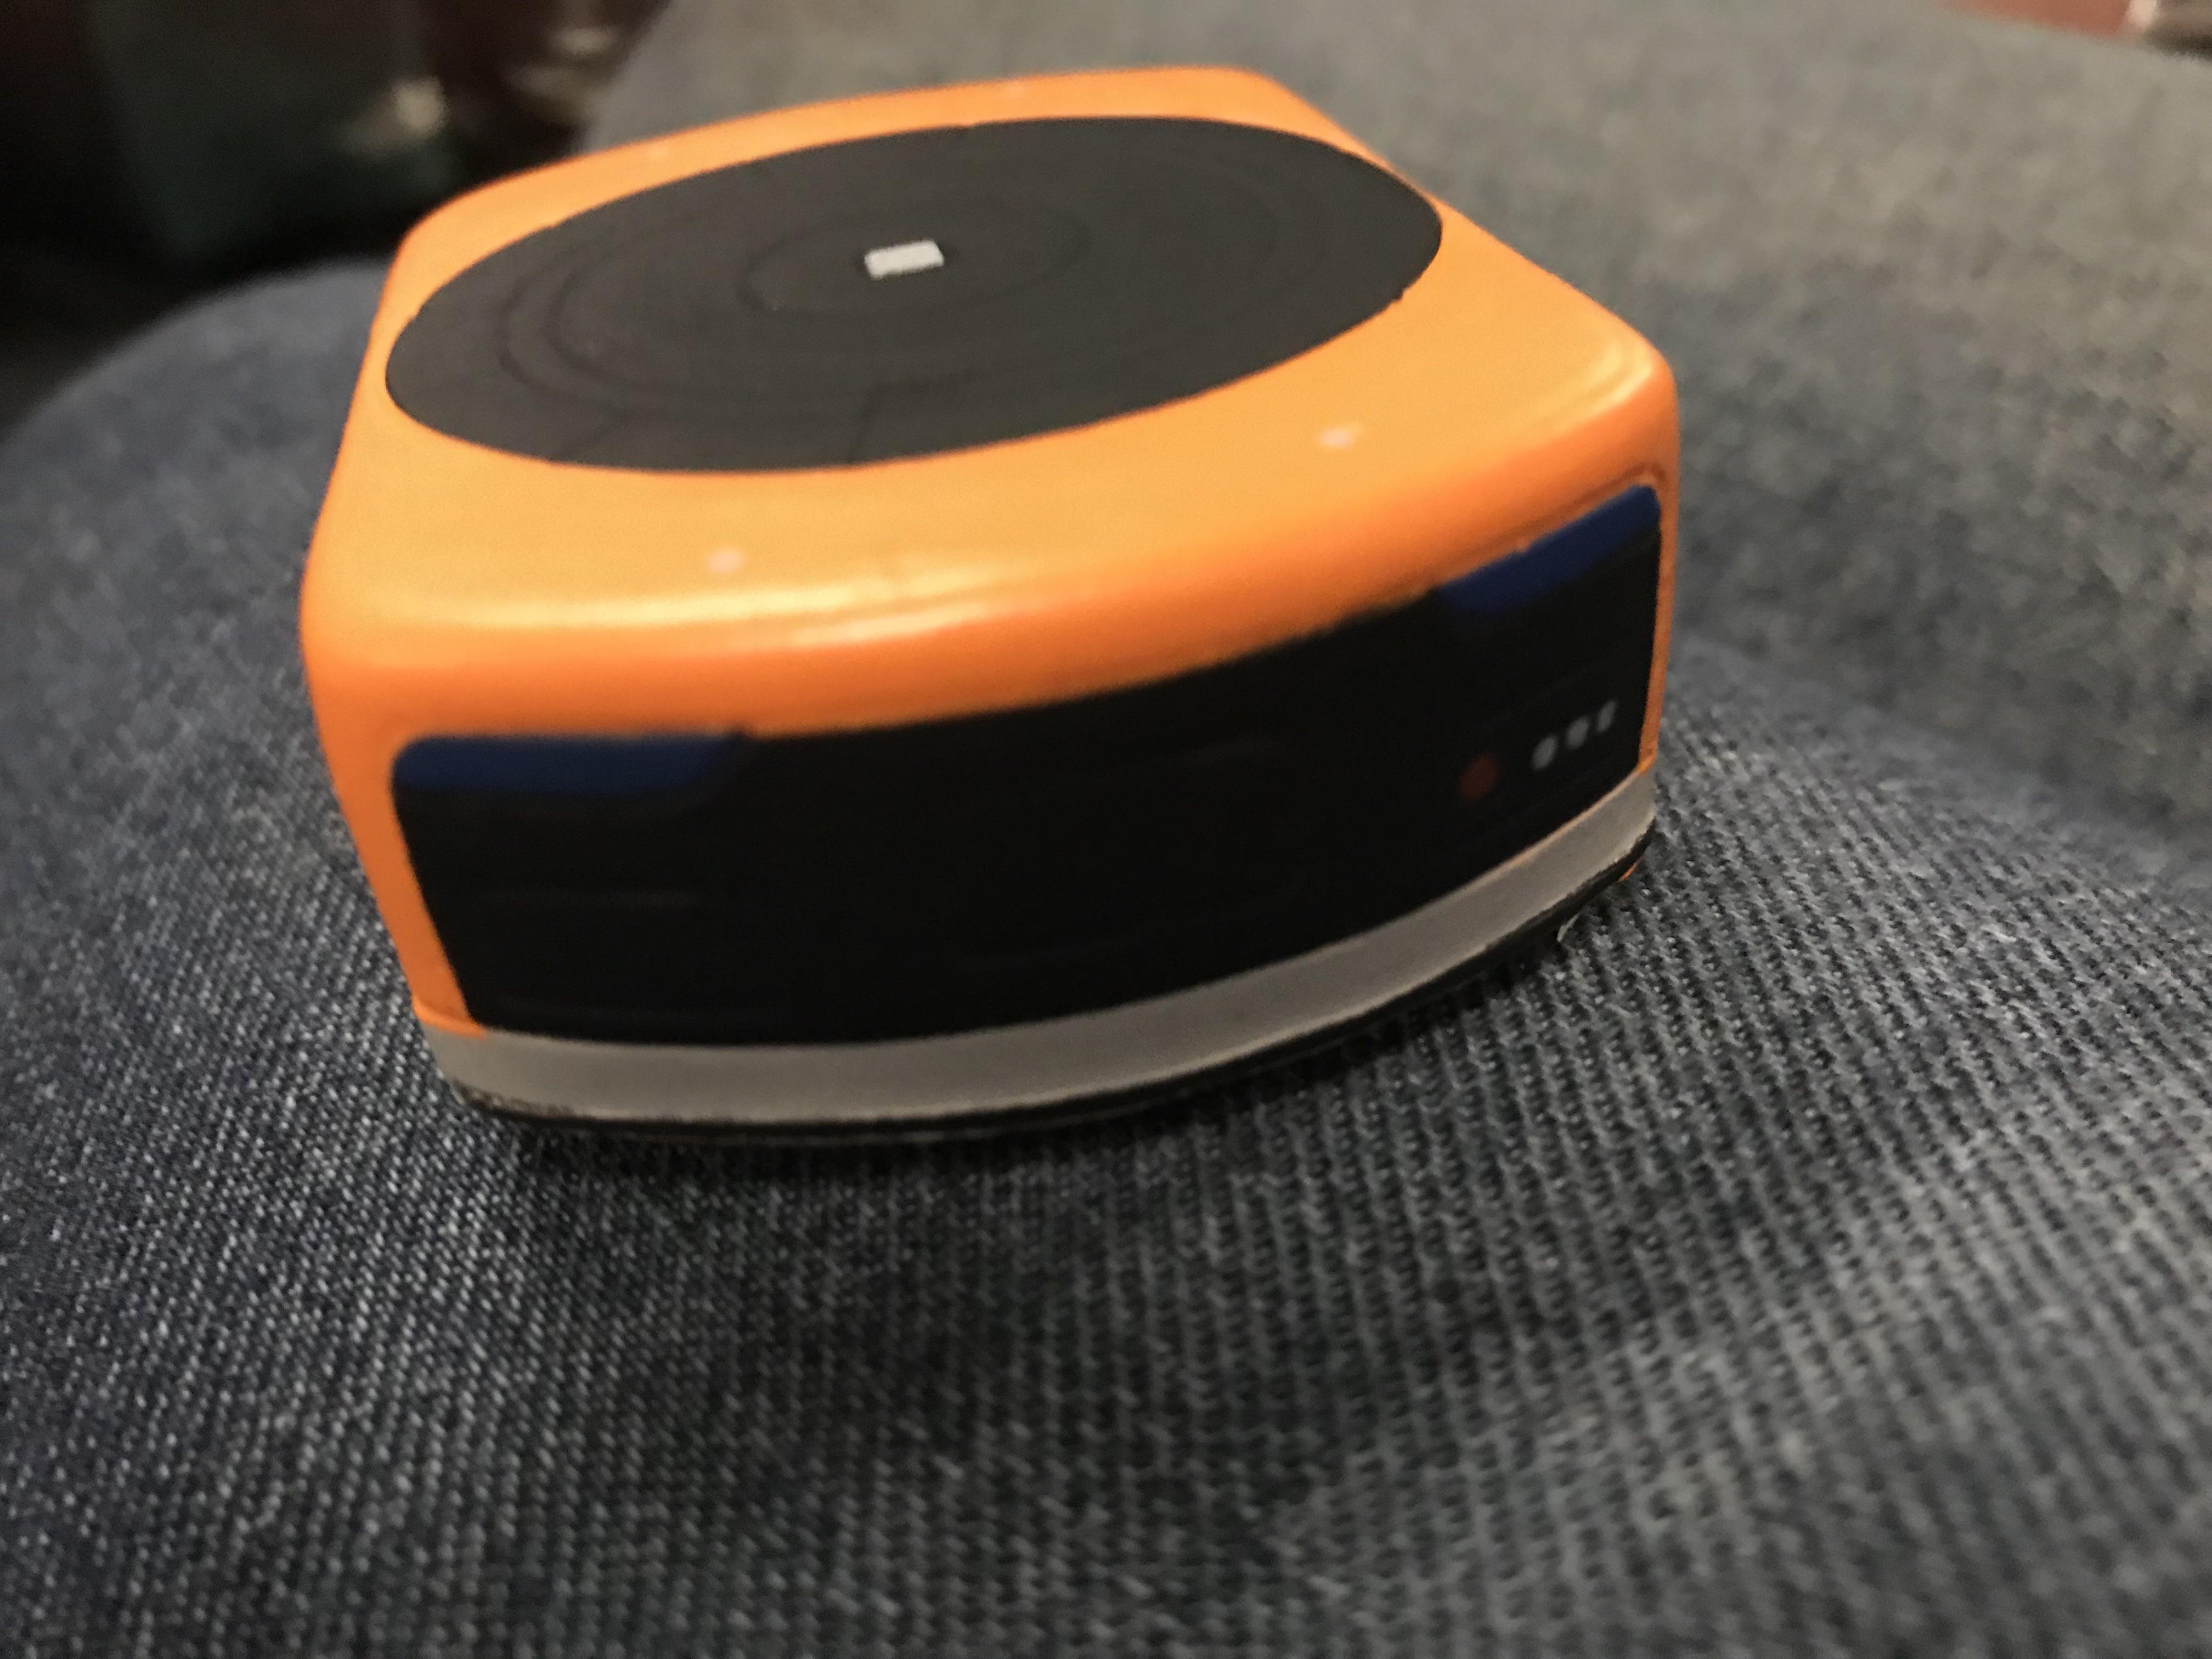amazon_bot: (286, 44, 1703, 1155)
